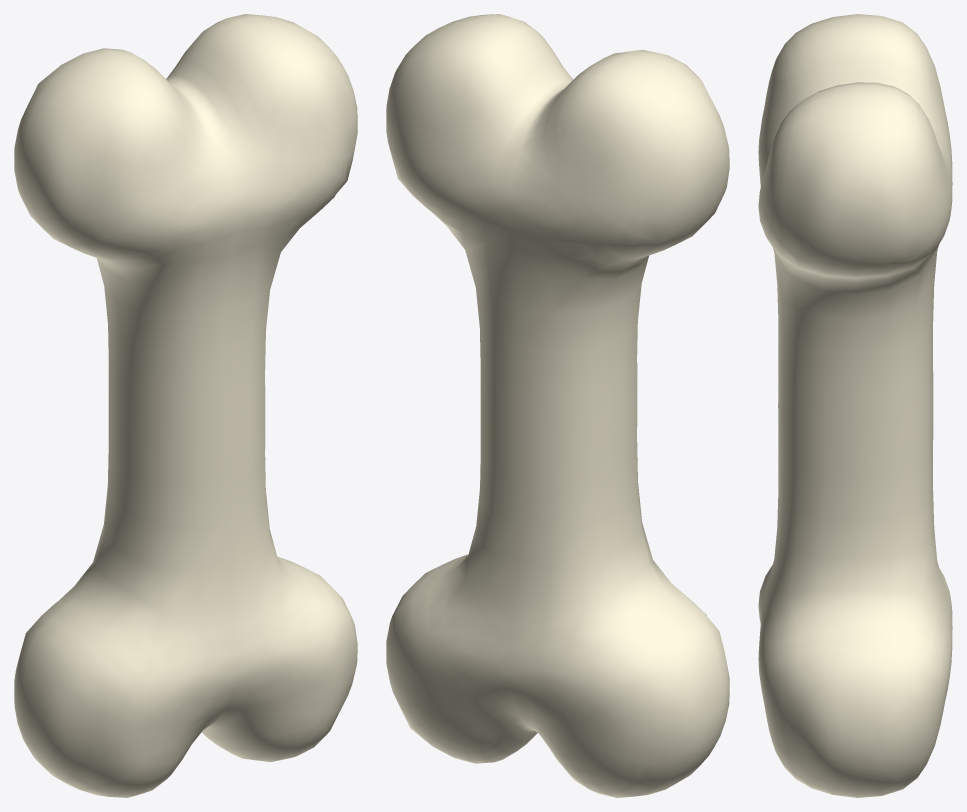
File: Bone2.fbx
3 renders of one model, left to right at view 1: azimuth 30°, elevation 25°; view 2: azimuth 150°, elevation 25°; view 3: azimuth 270°, elevation 25°, orthographic. The views are drawn at different scales.
Parts seen in each view (by area): view 1: pasted__pCube3; view 2: pasted__pCube3; view 3: pasted__pCube3.
Boxes of the visible parts, x1,y1,x2,y2 form: pasted__pCube3: [14, 14, 357, 797]; pasted__pCube3: [386, 14, 729, 797]; pasted__pCube3: [758, 14, 952, 797].
Bounding box in the file's own units: 8 × 17.65 × 4.43.
